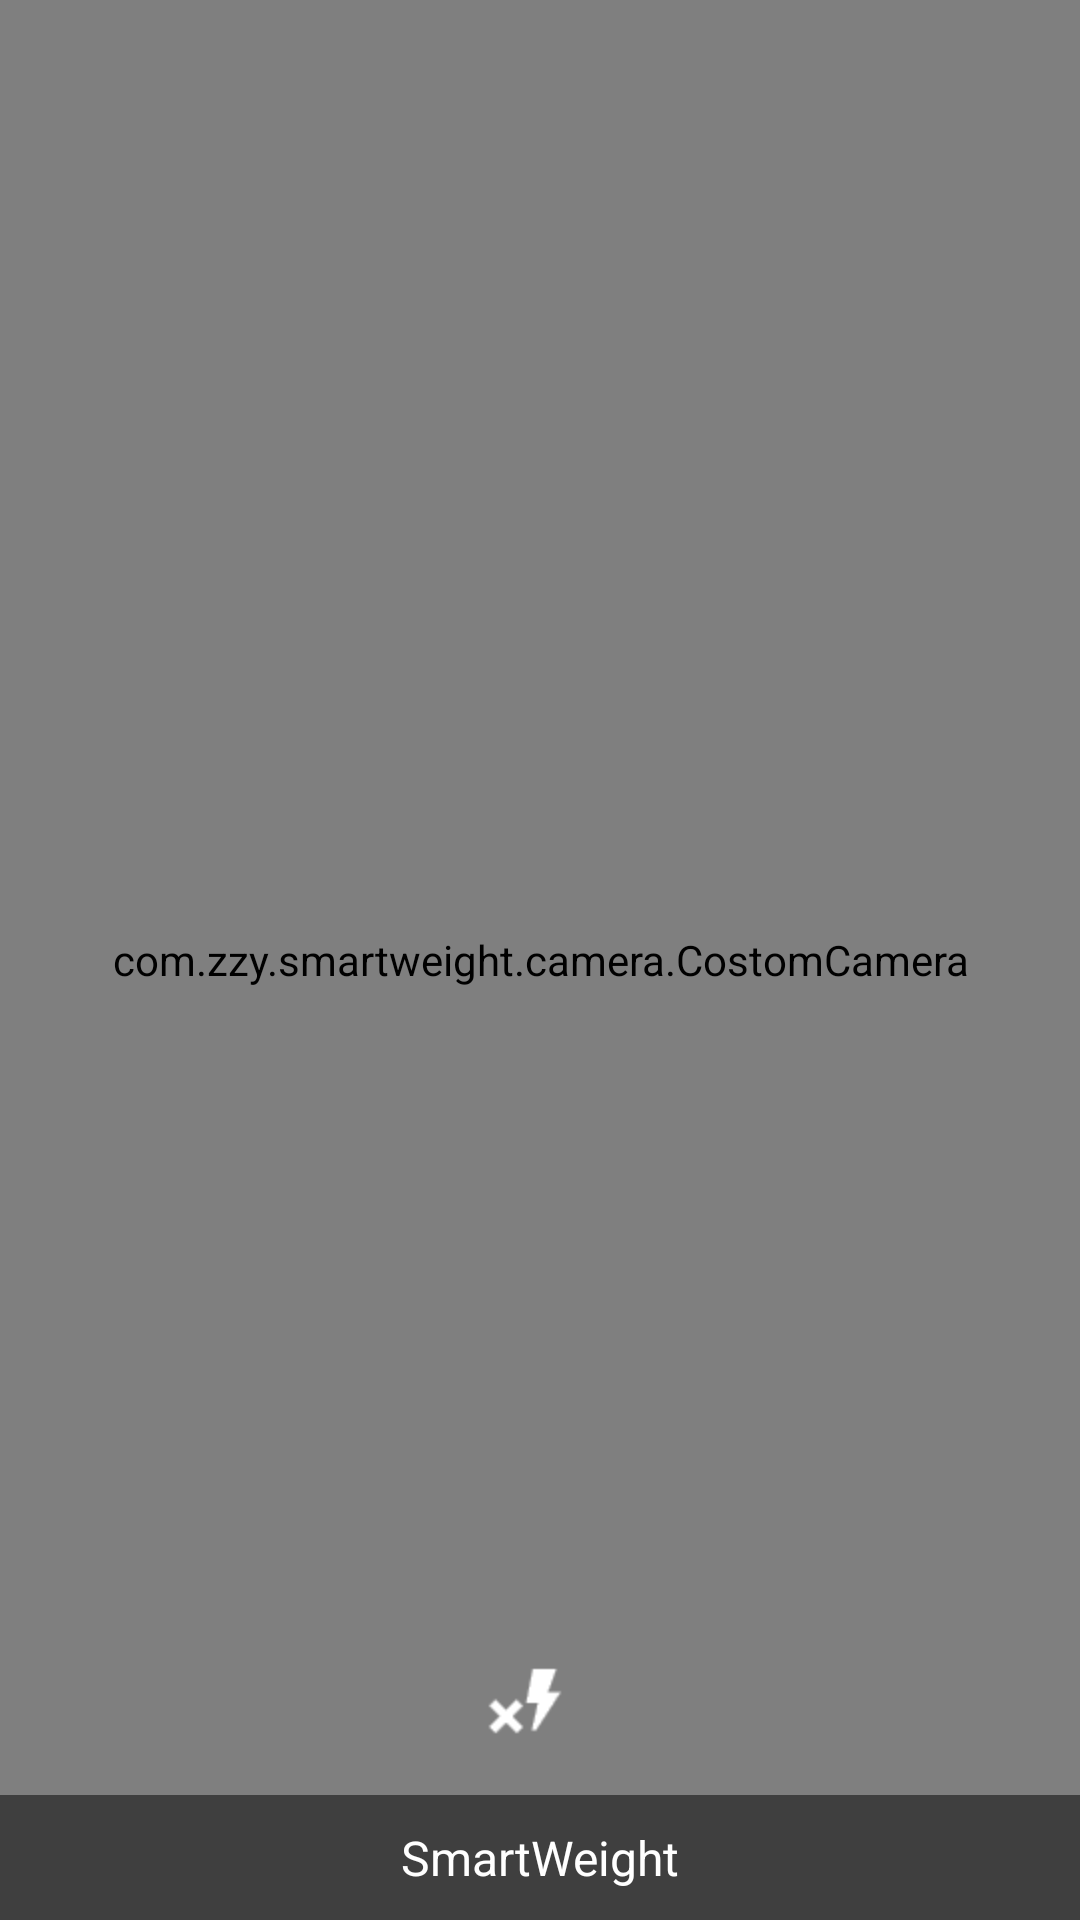

Named icons in this screenshot (1080px×1920px) and their centers, (x,y):
pocket camera flash off: (525,1700)
